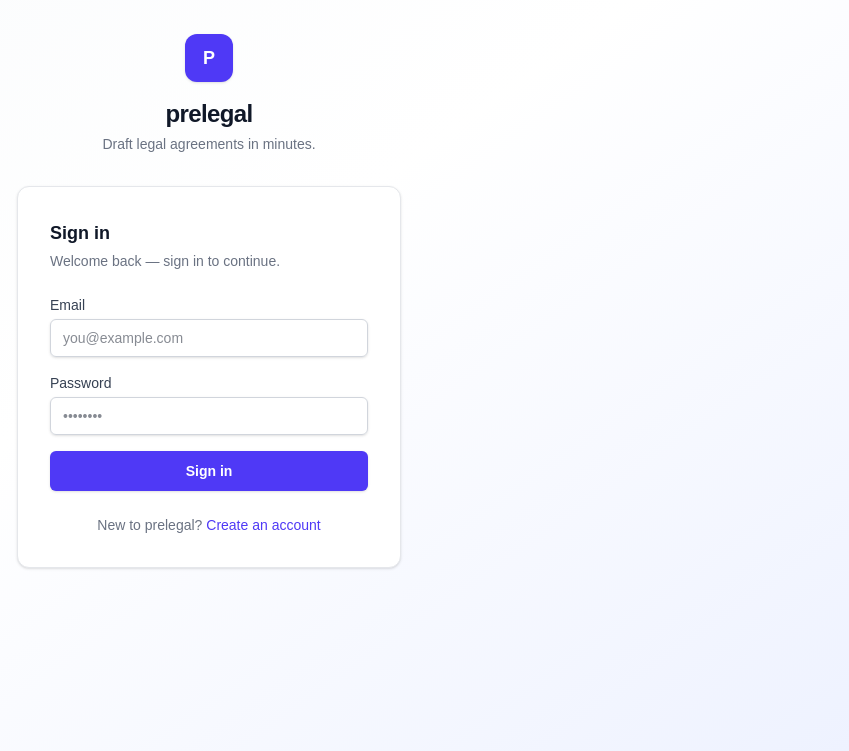
AuthScreen › shows an error message and does not navigate on failed sign in
This screenshot has width=849, height=751.
In the field labelled "Email": (209, 338) [50,319,368,357], type "a@example.com"
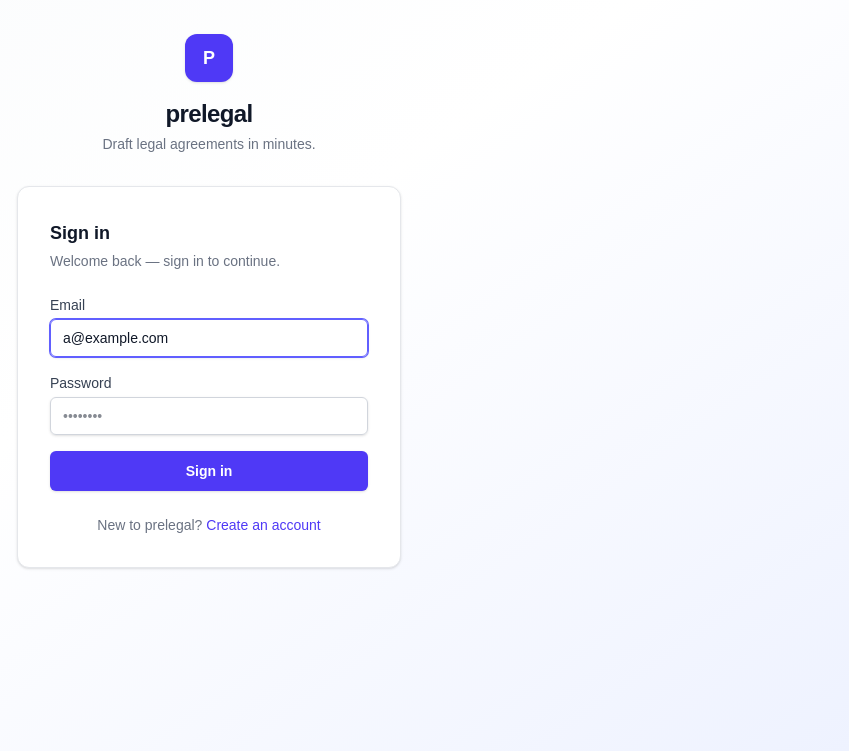
In the password field labelled "Password": (209, 416) [50,397,368,435], type "wrongpass"
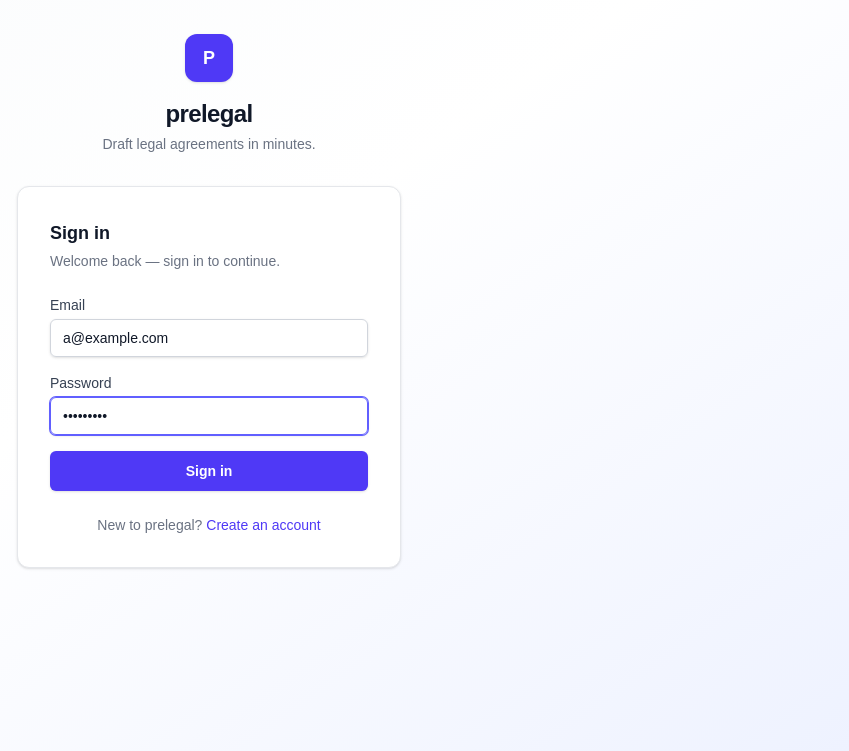
Click the button "Sign in": (209, 471) [50,451,368,491]
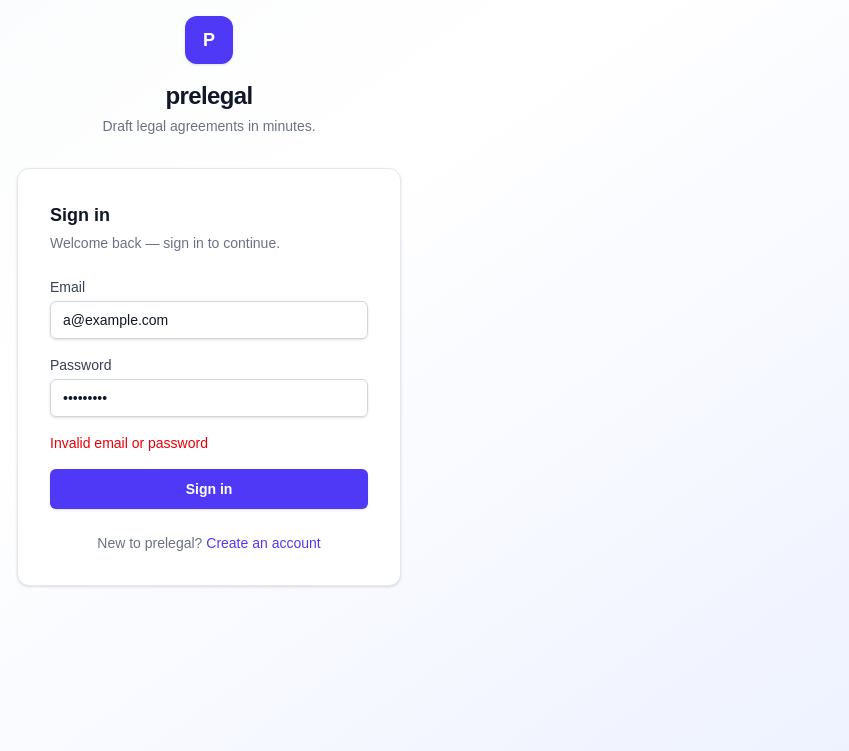
Expected: the message reads "Invalid email or password", [50,435,208,451]
